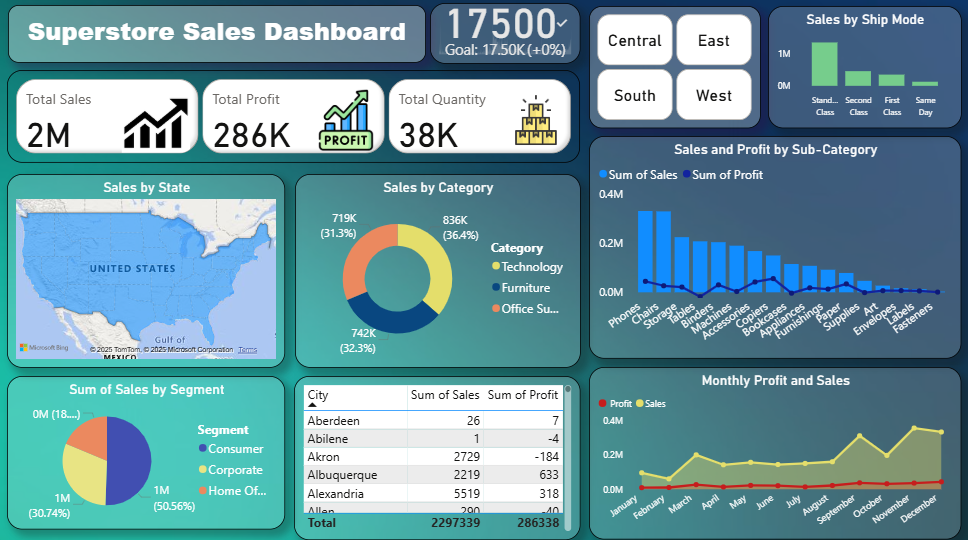

What the dashboard file says about the page in this screenshot:
{"tool":"powerbi","page":{"name":"Page 1","canvas":[1280,720],"ordinal":0},"visuals":[{"type":"textbox","box":[13,15.8,550.1,76.3],"z":0},{"type":"cardVisual","fields":{"Data":["Sum(Orders.Sales)","Sum(Orders.Profit)","Sum(Orders.Quantity)"]},"box":[12.4,101.8,754.2,122.5],"z":1000},{"type":"filledMap","title":"Sales by State","fields":{"Category":["Orders.State"]},"box":[12.4,238.1,366.1,254.6],"z":2000},{"type":"advancedSlicerVisual","fields":{"Values":["Orders.Region"]},"box":[777.6,16.5,225.7,161],"z":3000},{"type":"donutChart","title":" Sales by Category","fields":{"Category":["Orders.Category"],"Y":["Sum(Orders.Sales)"]},"box":[390.9,238.1,375.7,254.6],"z":4000},{"type":"tableEx","fields":{"Values":["Orders.City","Sum(Orders.Sales)","Sum(Orders.Profit)"]},"box":[389.5,503.7,377.1,216.1],"z":5000},{"type":"areaChart","title":"Monthly Profit and Sales","fields":{"Category":["Orders.Order Date.Variation.Date Hierarchy.Month"],"Y":["Sum(Orders.Profit)","Sum(Orders.Sales)"]},"box":[777.6,492.7,490,227.1],"z":6000},{"type":"lineClusteredColumnComboChart","title":"Sales and Profit by Sub-Category","fields":{"Y":["Sum(Orders.Sales)"],"Y2":["Sum(Orders.Profit)"],"Category":["Orders.Sub-Category"]},"box":[777.6,188.6,490,293.2],"z":7000},{"type":"kpi","fields":{"Indicator":["Sum(Orders.Sales)"],"TrendLine":["Orders.Profit"],"Goal":["Avg(Orders.Sales)"]},"box":[568.4,13.8,198.2,79.8],"z":8000},{"type":"clusteredColumnChart","title":" Sales by Ship Mode","fields":{"Category":["Orders.Ship Mode"],"Y":["Sum(Orders.Sales)"]},"box":[1013,16.5,254.6,161],"z":9000},{"type":"pieChart","fields":{"Category":["Orders.Segment"],"Y":["Sum(Orders.Sales)"]},"box":[12.4,503.7,366.1,202.3],"z":10000}]}

Visuals, with their boxes in screenshot pixels (x1, y1, x2, y2), scaled from the page's 1280x720 canvas onto the 968x540 screenshot:
textbox: 10, 12, 426, 69
cardVisual - Sum(Orders.Sales) x Sum(Orders.Profit): 9, 76, 580, 168
"Sales by State" filledMap: 9, 179, 286, 370
advancedSlicerVisual - Orders.Region: 588, 12, 759, 133
" Sales by Category" donutChart: 296, 179, 580, 370
tableEx - Orders.City x Sum(Orders.Sales): 295, 378, 580, 539
"Monthly Profit and Sales" areaChart: 588, 370, 959, 539
"Sales and Profit by Sub-Category" lineClusteredColumnComboChart: 588, 141, 959, 361
kpi - Sum(Orders.Sales) x Orders.Profit: 430, 10, 580, 70
" Sales by Ship Mode" clusteredColumnChart: 766, 12, 959, 133
pieChart - Orders.Segment x Sum(Orders.Sales): 9, 378, 286, 530
